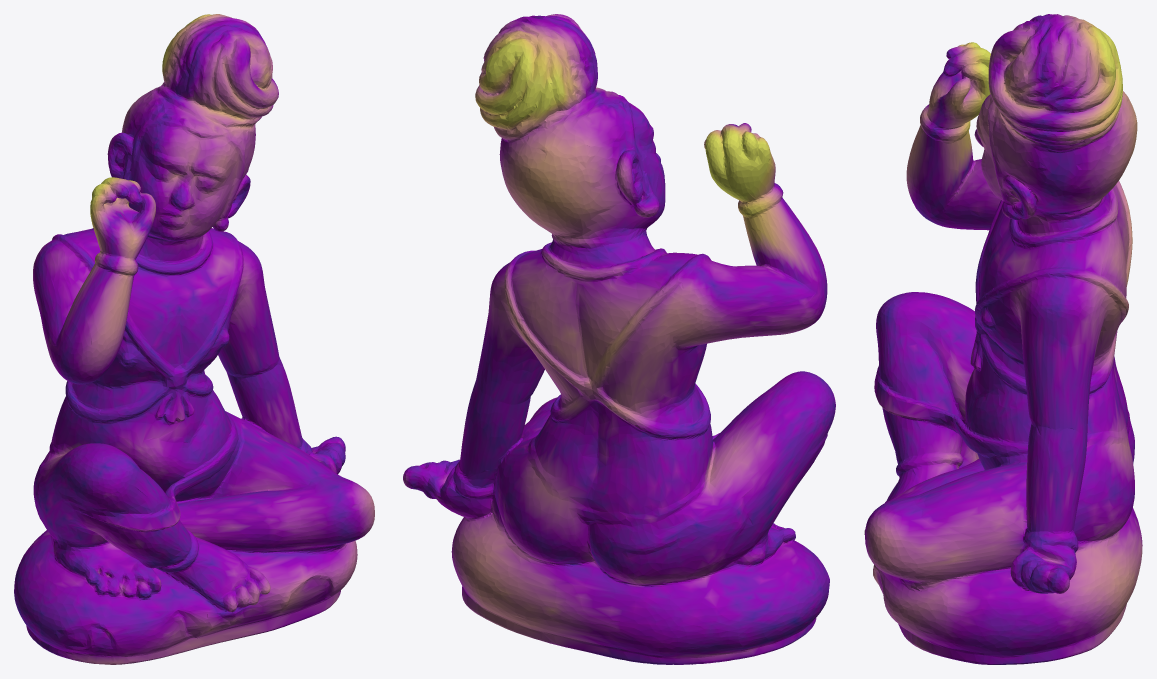
File: iter_16.glb
The picture shows the model from 3 angles, left to right: view 1: azimuth 30°, elevation 25°; view 2: azimuth 150°, elevation 25°; view 3: azimuth 270°, elevation 25°; orthographic projection. The views are drawn at different scales.
Visible parts, largest first — view 1: textured_mesh; view 2: textured_mesh; view 3: textured_mesh.
Part boxes in pixels (x1,y1,x2,y2): textured_mesh: (14, 14, 374, 664); textured_mesh: (403, 14, 835, 664); textured_mesh: (864, 14, 1142, 664).
Size of the model in its own units: 1.32 by 1.99 by 0.835.
